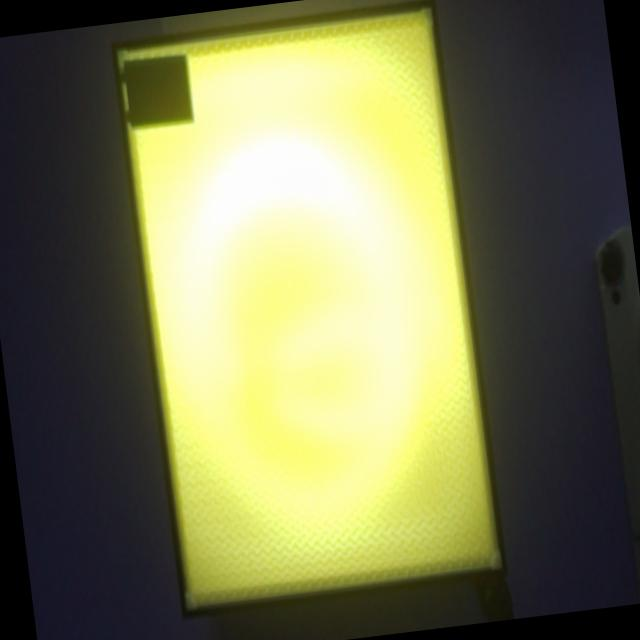Bateria: (124, 53, 193, 129)
Mesa: (112, 1, 508, 619)
Pestana: (118, 70, 126, 83), (124, 109, 130, 123)
